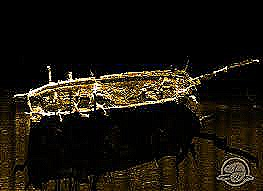ship: (13, 57, 259, 124)
